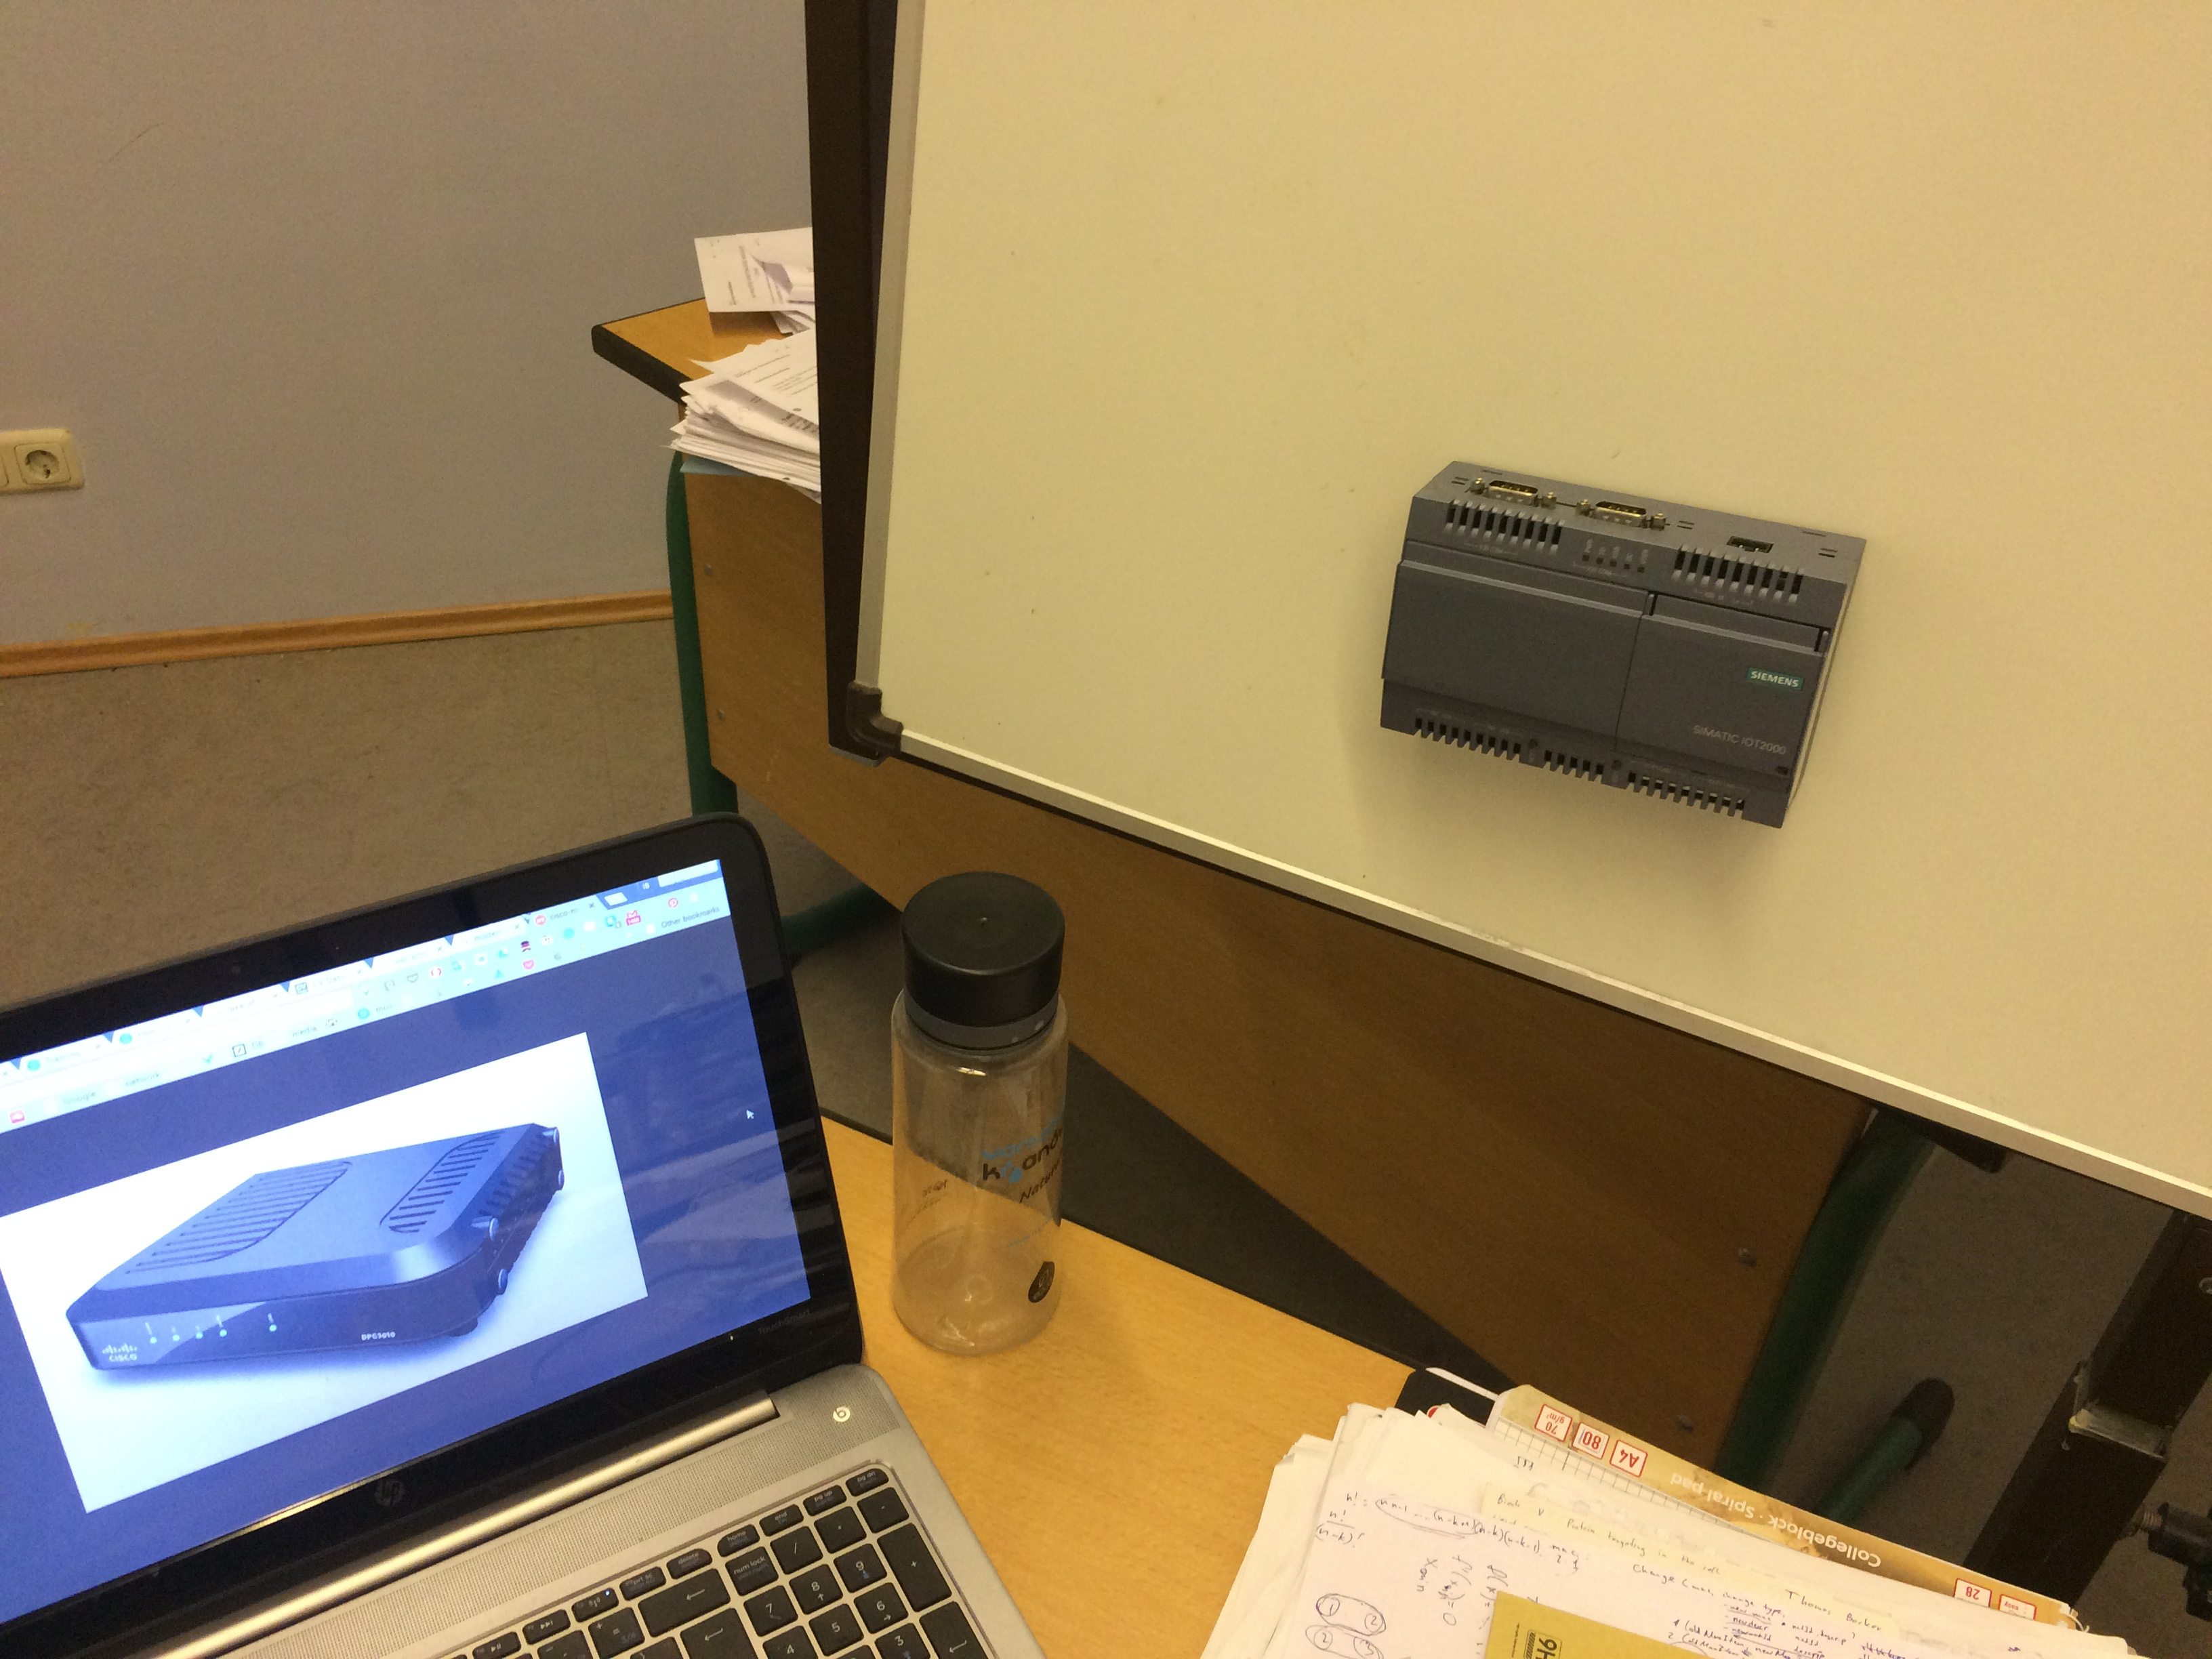iot2000: (1376, 458, 1867, 835)
